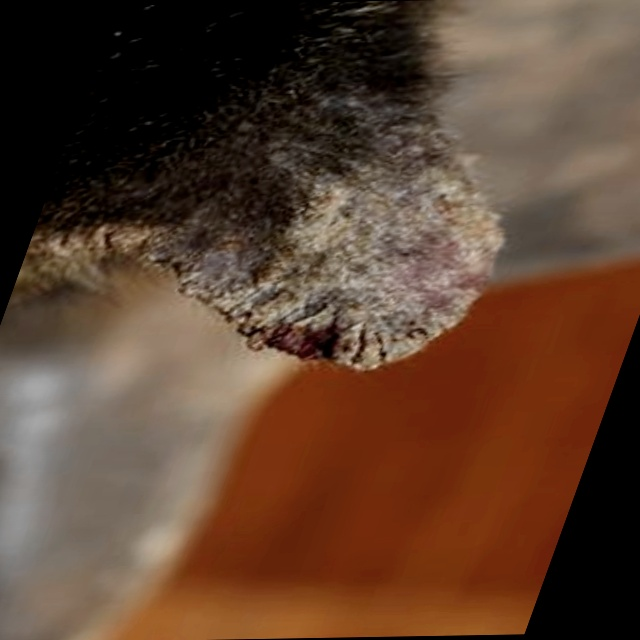ringworm: (205, 147, 521, 358)
